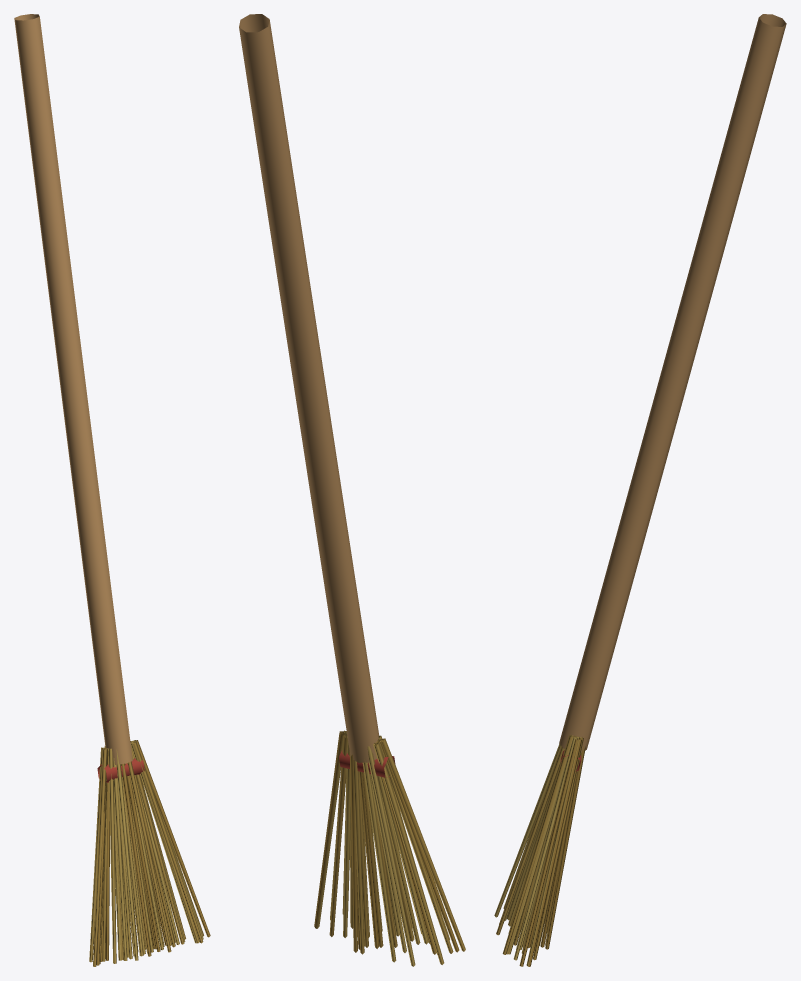
The model's file is Hut_Broom.fbx.
3 renders of one model, left to right at view 1: azimuth 30°, elevation 25°; view 2: azimuth 150°, elevation 25°; view 3: azimuth 270°, elevation 25°, orthographic. The views are drawn at different scales.
Visible parts, largest first — view 1: Hut_Broom; view 2: Hut_Broom; view 3: Hut_Broom.
Part boxes in pixels (x1,y1,x2,y2): Hut_Broom: [14, 14, 210, 966]; Hut_Broom: [239, 14, 465, 966]; Hut_Broom: [494, 14, 786, 966].
Bounding box in the file's own units: 8.35 × 56.65 × 16.29.
